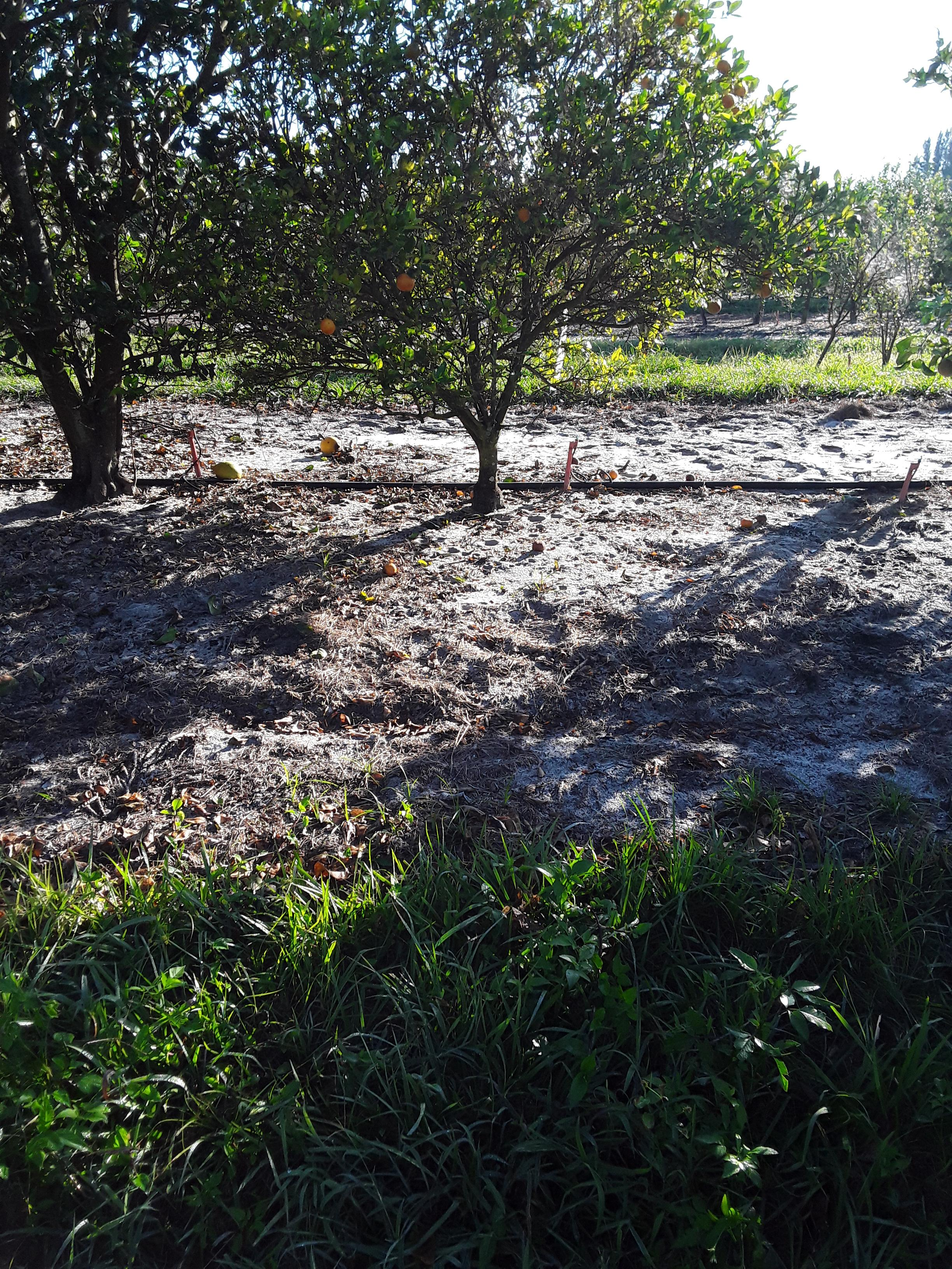fruit_on_ground: (129, 182, 152, 206), (395, 269, 416, 294), (317, 316, 336, 337), (672, 7, 691, 28), (402, 43, 423, 61), (935, 357, 952, 379), (514, 205, 532, 225), (704, 295, 721, 316), (716, 56, 734, 75), (756, 282, 774, 299), (719, 91, 736, 109), (637, 76, 656, 92), (732, 83, 750, 97)
fruit_on_tree: (210, 461, 244, 482), (319, 433, 343, 455), (383, 562, 399, 576), (533, 539, 546, 554), (740, 516, 754, 529), (608, 468, 619, 479), (684, 473, 695, 482)
